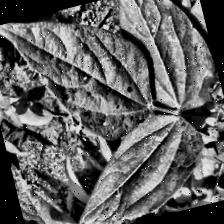ALS: (0, 0, 163, 175), (71, 107, 210, 224), (114, 0, 218, 123)
